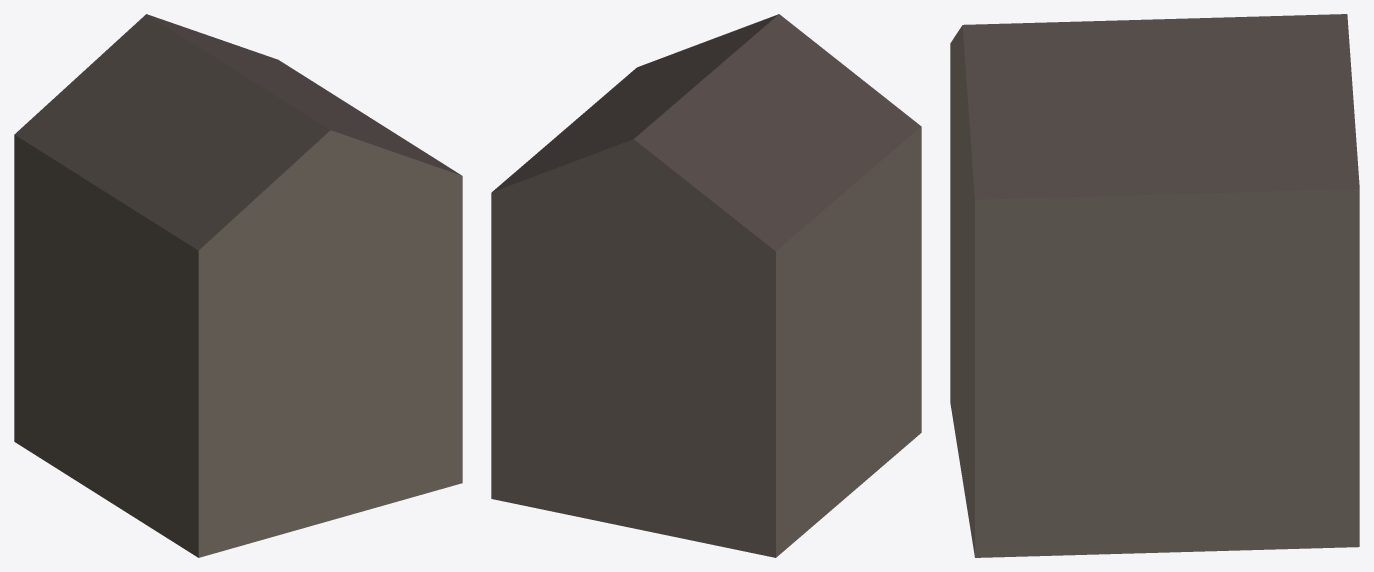
The picture shows the model from 3 angles, left to right: view 1: azimuth 30°, elevation 25°; view 2: azimuth 150°, elevation 25°; view 3: azimuth 270°, elevation 25°; orthographic projection. The views are drawn at different scales.
Visible parts, largest first — view 1: HP-w1424106455; view 2: HP-w1424106455; view 3: HP-w1424106455.
Part boxes in pixels (x1,y1,x2,y2): HP-w1424106455: [14, 14, 462, 557]; HP-w1424106455: [491, 14, 921, 557]; HP-w1424106455: [950, 14, 1359, 557].
Bounding box in the file's own units: 6 × 7.62 × 6.22.
